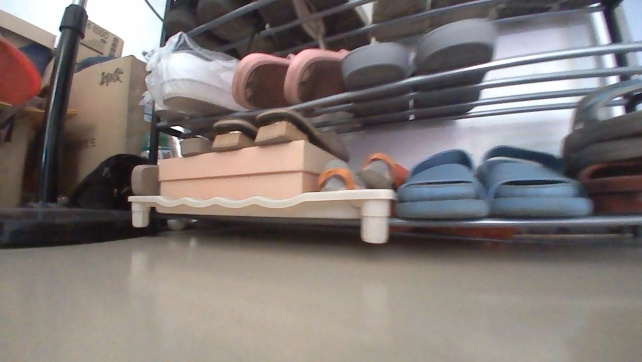chair_base: (0, 185, 159, 253)
shoe: (255, 105, 356, 160)
slipper: (480, 139, 596, 220), (394, 144, 494, 222), (559, 76, 641, 149)
wire: (142, 0, 164, 23)
